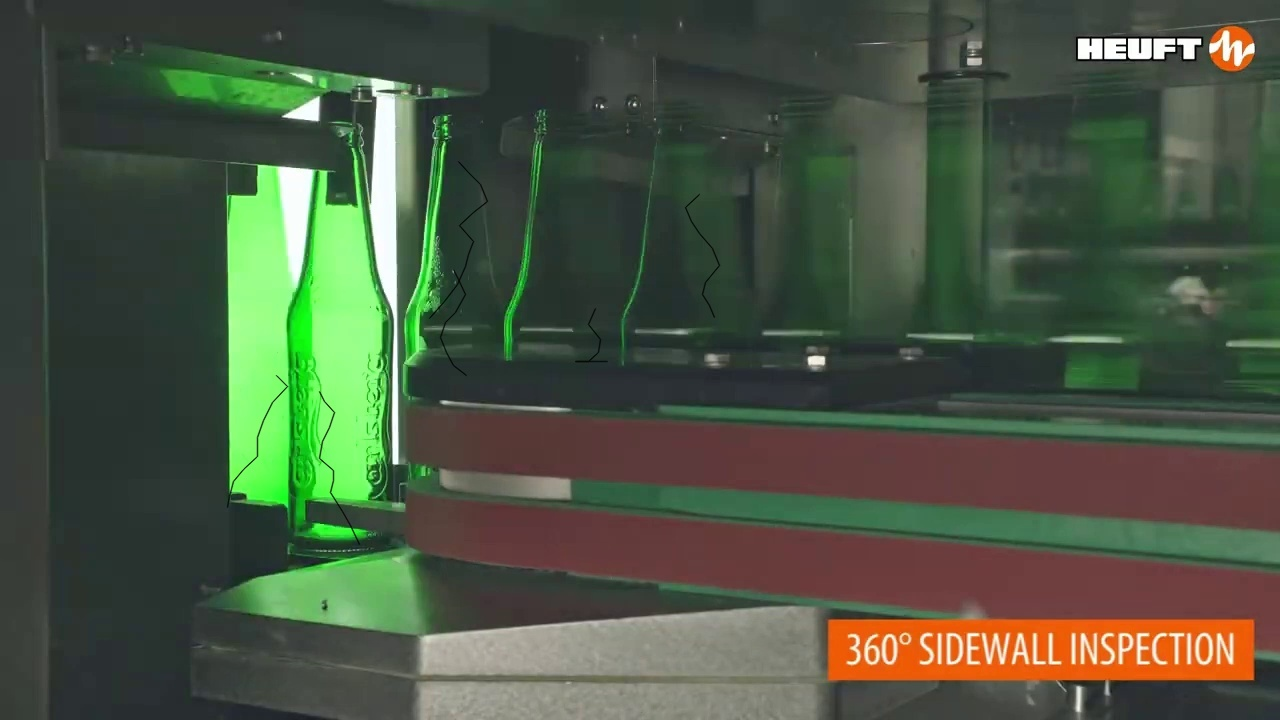bottle: (286, 120, 398, 557), (405, 116, 502, 480), (228, 162, 298, 554)
crack: (429, 161, 487, 318), (227, 375, 287, 507), (319, 391, 359, 544), (685, 194, 719, 317), (440, 269, 466, 375), (575, 308, 607, 361)
